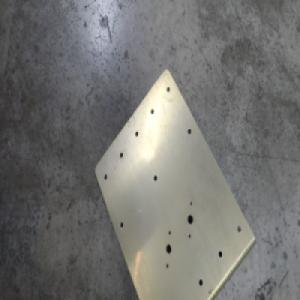MetalSheet: (92, 66, 256, 300)
